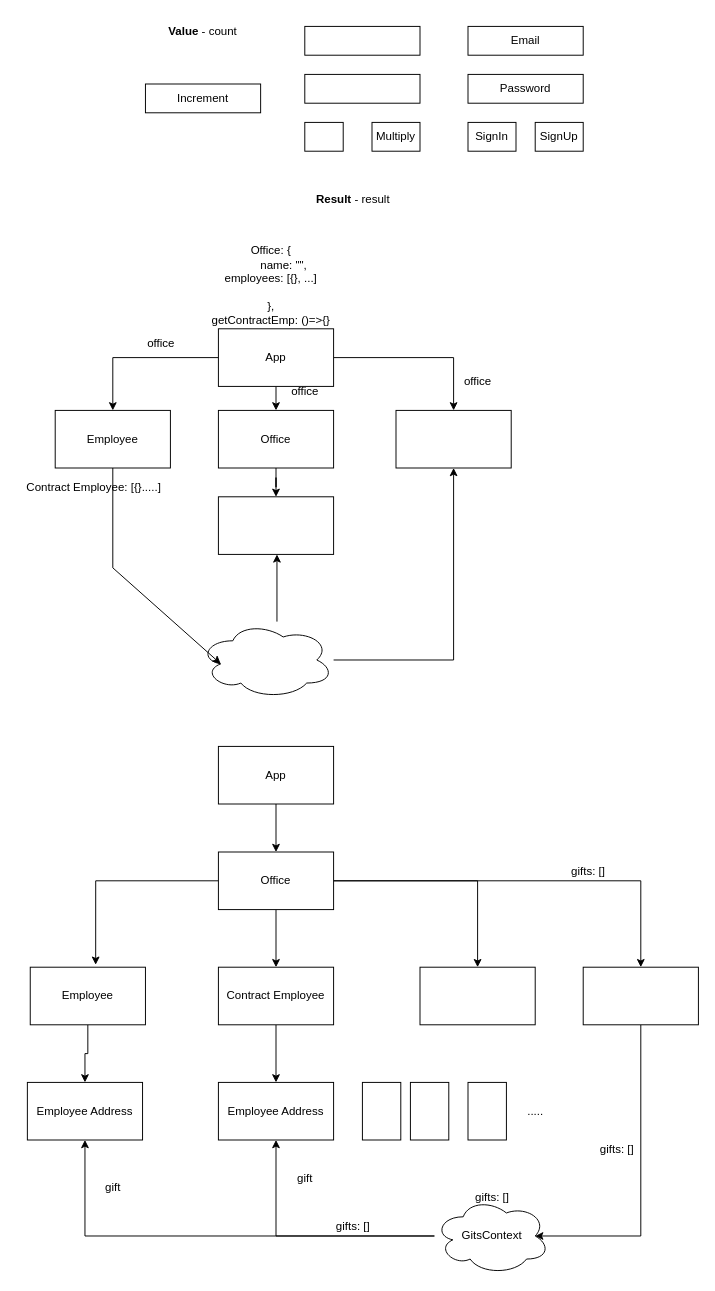
This 715x1291 diagram has some shape labels left out. The centre of each missing label's shape, as x and y in pixels:
Add: pixel 323 136
Context(Contract Employees): pixel 266 659
Contract Employees: pixel 275 525
CourierCompany: pixel 640 995
Home: pixel 453 438
OfficeAddress: pixel 477 995
